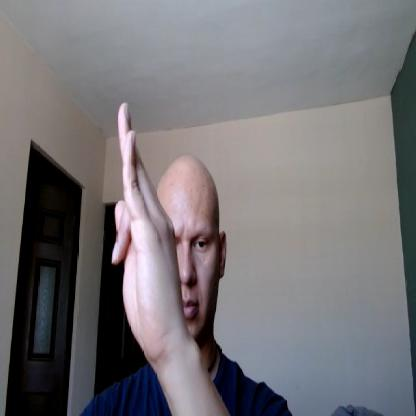F: (111, 100, 183, 350)
